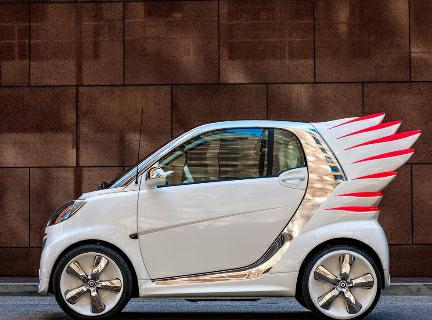smart-forjeremy: (33, 120, 413, 311)
